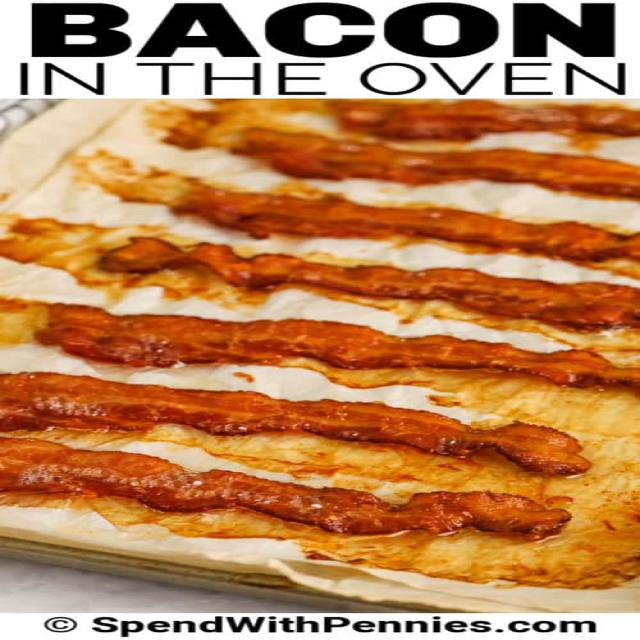Bacon: (0, 372, 590, 475), (0, 438, 570, 539), (35, 304, 640, 386), (100, 238, 640, 329), (170, 184, 638, 262), (230, 128, 640, 197)
